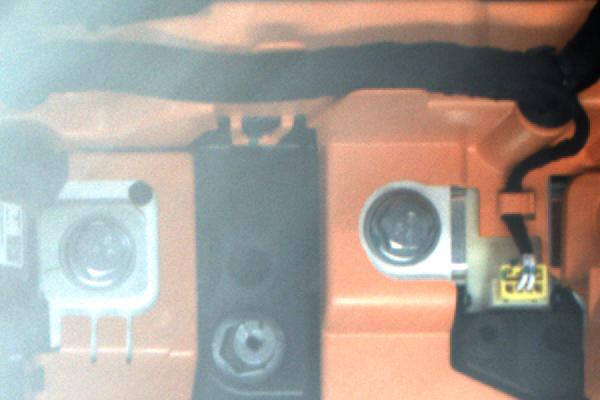nut_b: (358, 187, 445, 267)
